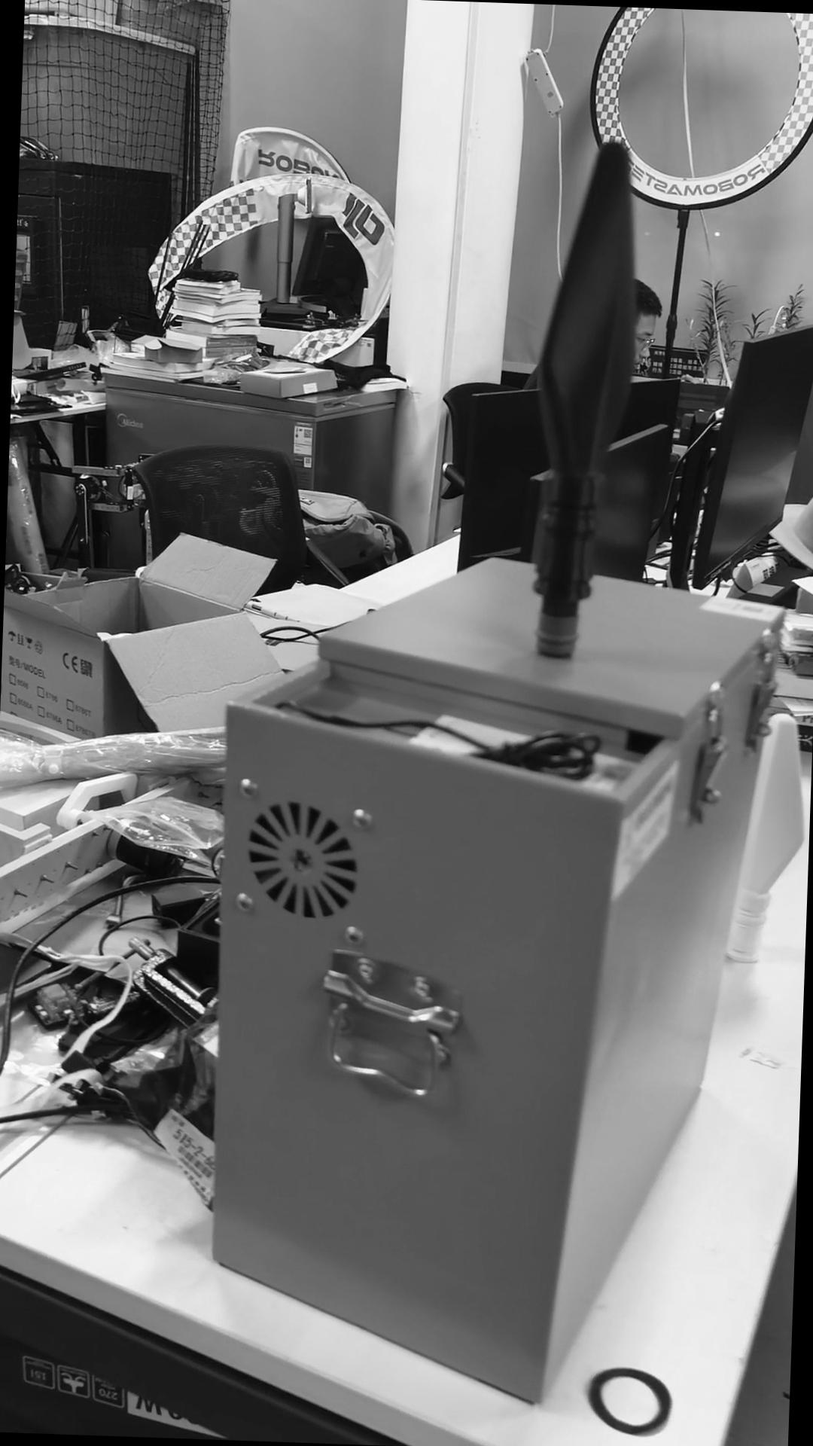base: (534, 611, 578, 660)
